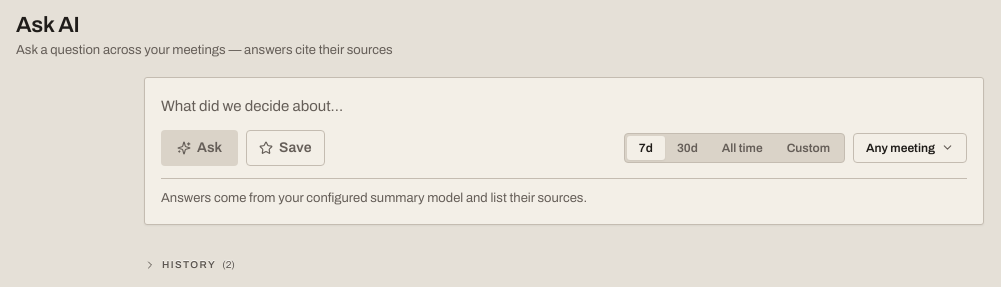
Ask AI — scope defaults and labels › says the person filter selects meetings, not lines
Click the button with aria-label "Filter by the meetings someone was in" at point(910, 148), box [853, 133, 967, 163]
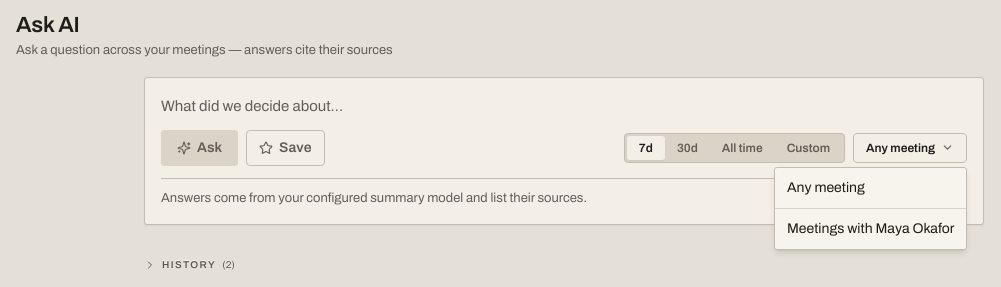
Click the menu item "Meetings with Maya Okafor" at point(871, 228), box [787, 221, 954, 236]
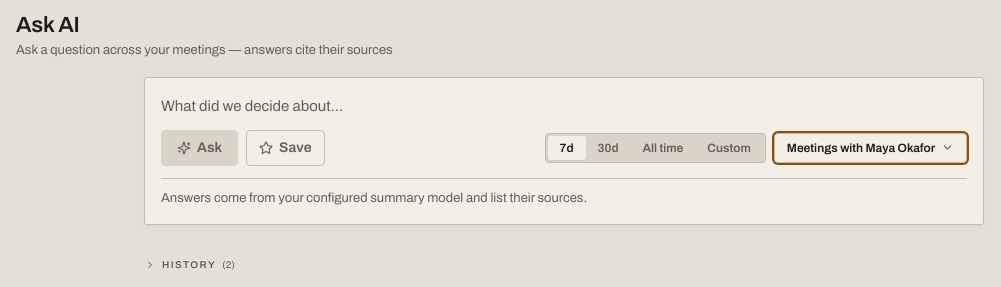
Now the button with aria-label "Filter by the meetings someone was in" reads "Meetings with Maya Okafor", box [774, 133, 967, 163]
